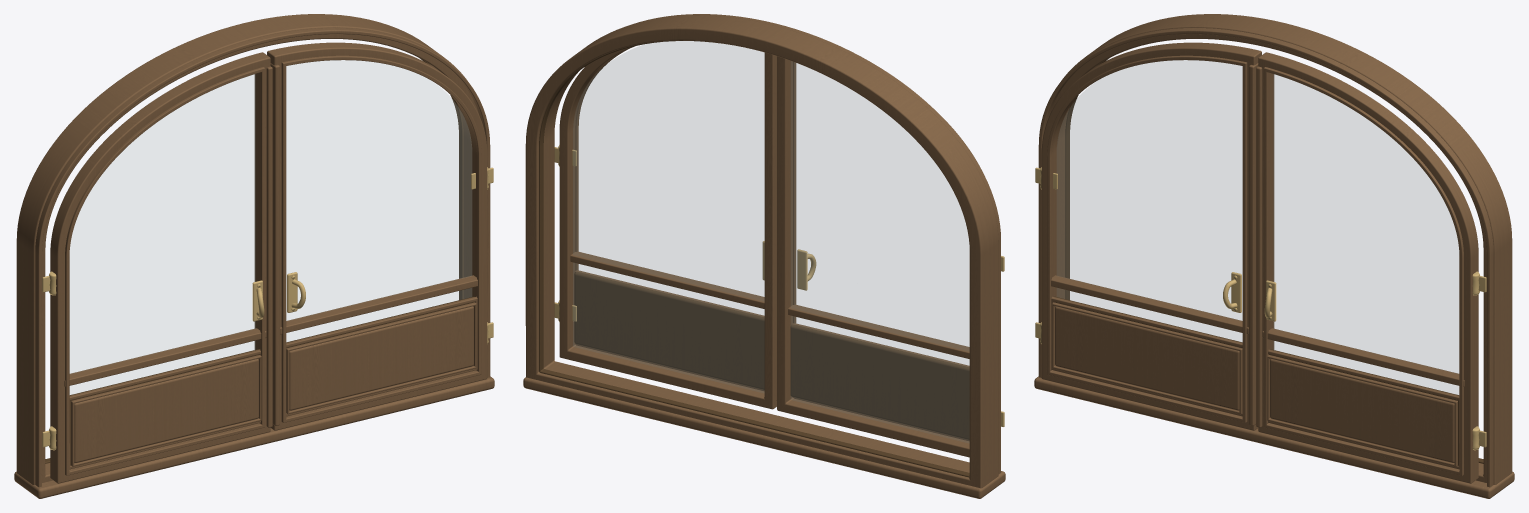
The model's file is front-room-02.glb.
3 views of the same model, side by side, from view 1: azimuth 30°, elevation 25°; view 2: azimuth 150°, elevation 25°; view 3: azimuth 330°, elevation 25° (orthographic).
Parts seen in each view (by area): view 1: hinge_right__Joinery_clear_glass, hinge_left__Joinery_clear_glass, hinge_left__Joinery_warm_walnut, hinge_right__Joinery_warm_walnut, frame__Joinery_warm_walnut, frame__Joinery_recessed_walnut, hinge_left__Joinery_brass_fittings, hinge_right__Joinery_brass_fittings, hinge_left__Joinery_recessed_walnut; view 2: hinge_right__Joinery_clear_glass, hinge_left__Joinery_clear_glass, frame__Joinery_warm_walnut, hinge_right__Joinery_warm_walnut, hinge_right__Joinery_recessed_walnut, hinge_left__Joinery_recessed_walnut, hinge_left__Joinery_warm_walnut, frame__Joinery_recessed_walnut, hinge_right__Joinery_brass_fittings; view 3: hinge_left__Joinery_clear_glass, hinge_right__Joinery_clear_glass, hinge_right__Joinery_warm_walnut, hinge_left__Joinery_warm_walnut, frame__Joinery_warm_walnut, frame__Joinery_recessed_walnut, hinge_right__Joinery_brass_fittings, hinge_left__Joinery_brass_fittings, hinge_right__Joinery_recessed_walnut.
Boxes of the visible parts, x1,y1,x2,y2 form: hinge_right__Joinery_clear_glass: [286, 60, 471, 341]; hinge_left__Joinery_clear_glass: [70, 74, 255, 394]; hinge_left__Joinery_warm_walnut: [50, 52, 279, 483]; hinge_right__Joinery_warm_walnut: [266, 42, 487, 430]; frame__Joinery_warm_walnut: [14, 14, 494, 498]; frame__Joinery_recessed_walnut: [45, 58, 463, 463]; hinge_left__Joinery_brass_fittings: [49, 271, 305, 450]; hinge_right__Joinery_brass_fittings: [252, 167, 488, 343]; hinge_left__Joinery_recessed_walnut: [69, 349, 259, 465]; hinge_right__Joinery_clear_glass: [573, 41, 764, 392]; hinge_left__Joinery_clear_glass: [791, 61, 969, 442]; frame__Joinery_warm_walnut: [523, 14, 1005, 498]; hinge_right__Joinery_warm_walnut: [559, 46, 776, 409]; hinge_right__Joinery_recessed_walnut: [574, 271, 764, 389]; hinge_left__Joinery_recessed_walnut: [790, 324, 969, 440]; hinge_left__Joinery_warm_walnut: [776, 56, 980, 457]; frame__Joinery_recessed_walnut: [539, 40, 969, 477]; hinge_right__Joinery_brass_fittings: [558, 145, 816, 321]; hinge_left__Joinery_clear_glass: [1057, 60, 1242, 341]; hinge_right__Joinery_clear_glass: [1273, 74, 1458, 394]; hinge_right__Joinery_warm_walnut: [1249, 52, 1478, 483]; hinge_left__Joinery_warm_walnut: [1041, 42, 1262, 430]; frame__Joinery_warm_walnut: [1034, 14, 1514, 498]; frame__Joinery_recessed_walnut: [1065, 58, 1483, 463]; hinge_right__Joinery_brass_fittings: [1223, 271, 1479, 450]; hinge_left__Joinery_brass_fittings: [1040, 167, 1276, 343]; hinge_right__Joinery_recessed_walnut: [1269, 349, 1459, 465].
Bounding box in the file's own units: 3.18 × 2.69 × 0.5078.
5 materials, 2 textured.
